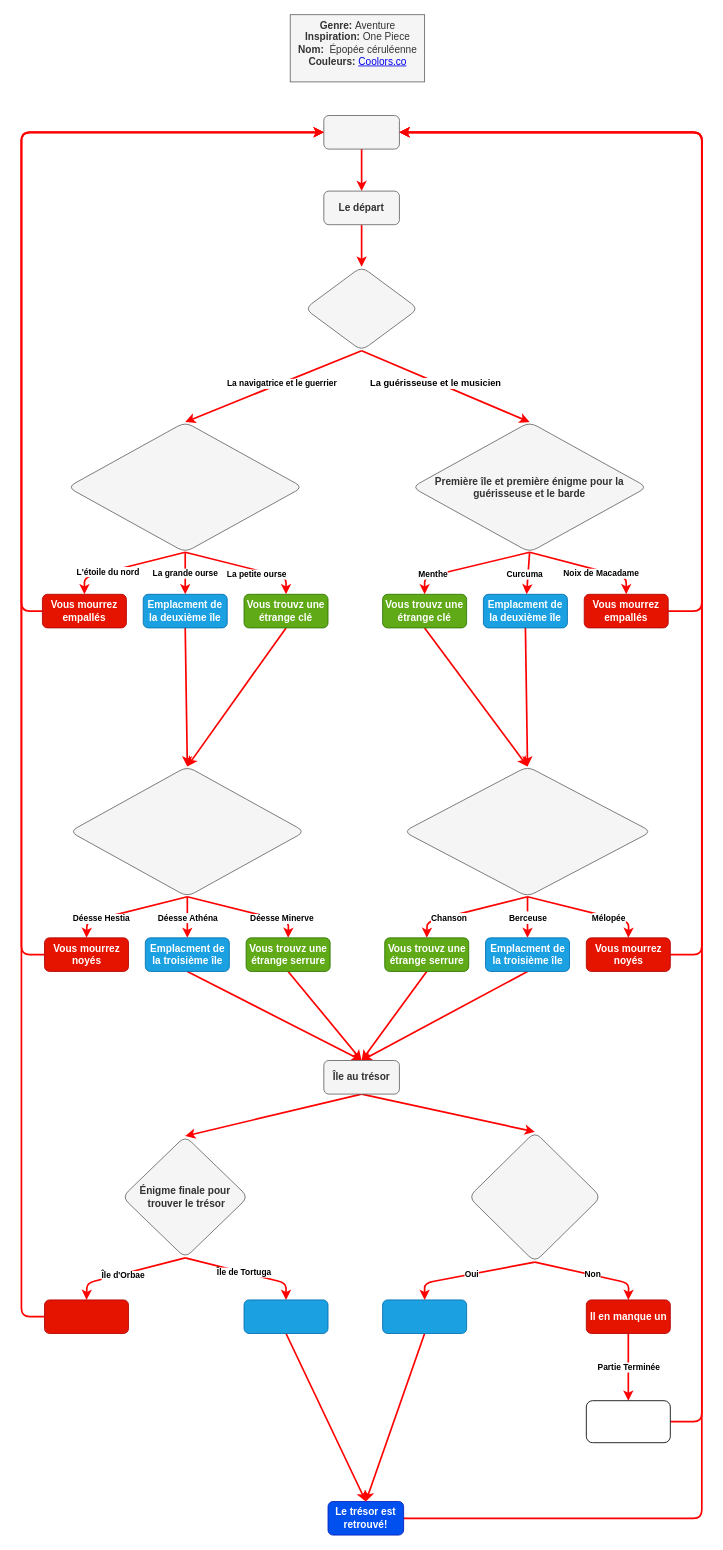
The diagram is 723 pixels wide and 1550 high, and some of its shapes have lost their labels. The shapes that lost their labels are listed below. From the top down, each one's box as (x1, y1, x2, y2) in pixels, then its label:
(323, 115, 399, 149): Éveil du capitaine
(304, 266, 418, 351): Recrutement de l'équipage
(67, 421, 303, 552): Première île et première énigme pour la navigatrice et le guerrier
(69, 766, 305, 897): Seconde île et deuxième énigme pour la navigatrice et le guerrier
(403, 766, 651, 897): Seconde île et deuxième énigme pour la guérisseuse et le barde
(468, 1131, 601, 1262): Est-ce que vous avez les objets?
(44, 1299, 129, 1334): Vous mourrez brûlés
(243, 1299, 328, 1334): Emplacment du trésor
(382, 1299, 467, 1334): Vous avez les deux objets
(585, 1400, 670, 1443): Partie terminé, veuiller recommencer!
